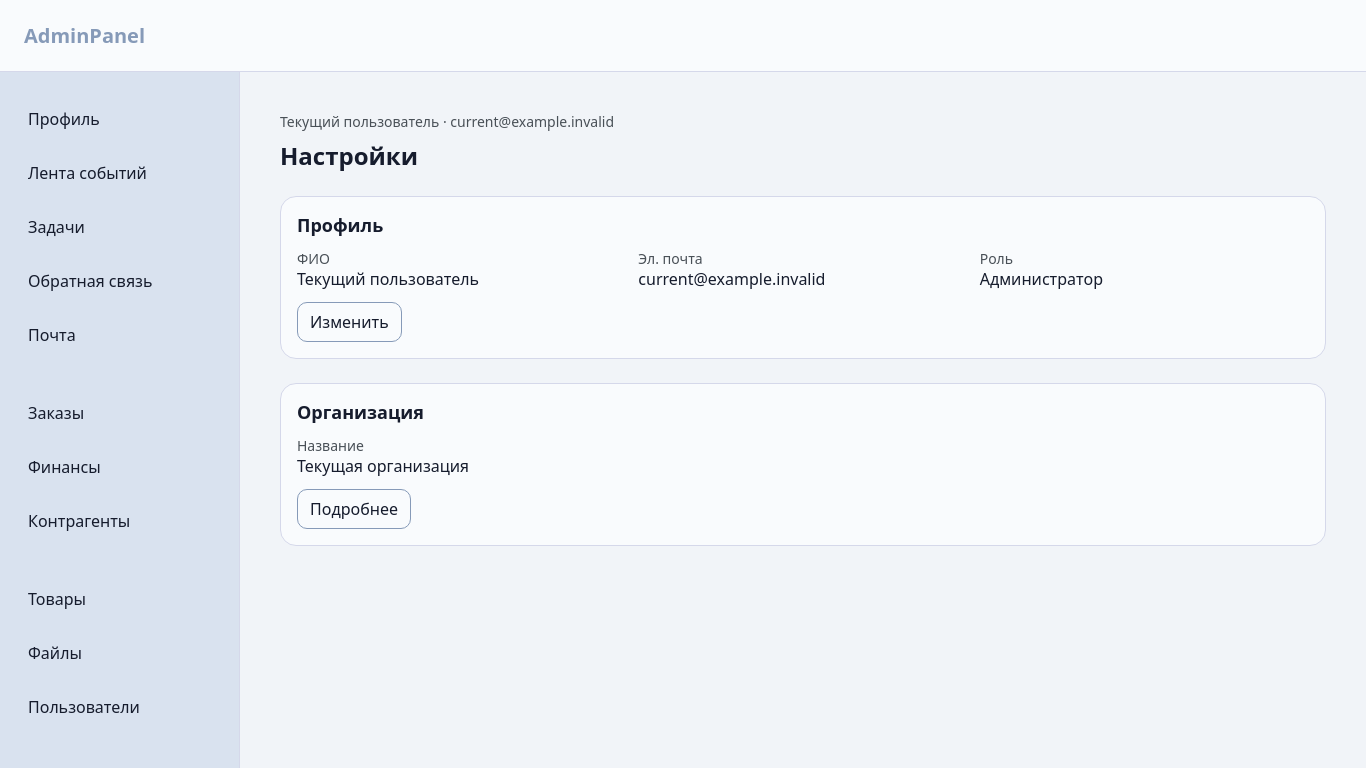
Test: Settings › reads the session user from the auth boundary and opens shared Overlays with dirty-state flow
This screenshot has width=1366, height=768.
expect the text with test id "settings-name" reads "Текущий пользователь": met, box [297,268,479,290]
Click the button with test id "edit-profile": coordinates (349, 322) [297,302,402,342]
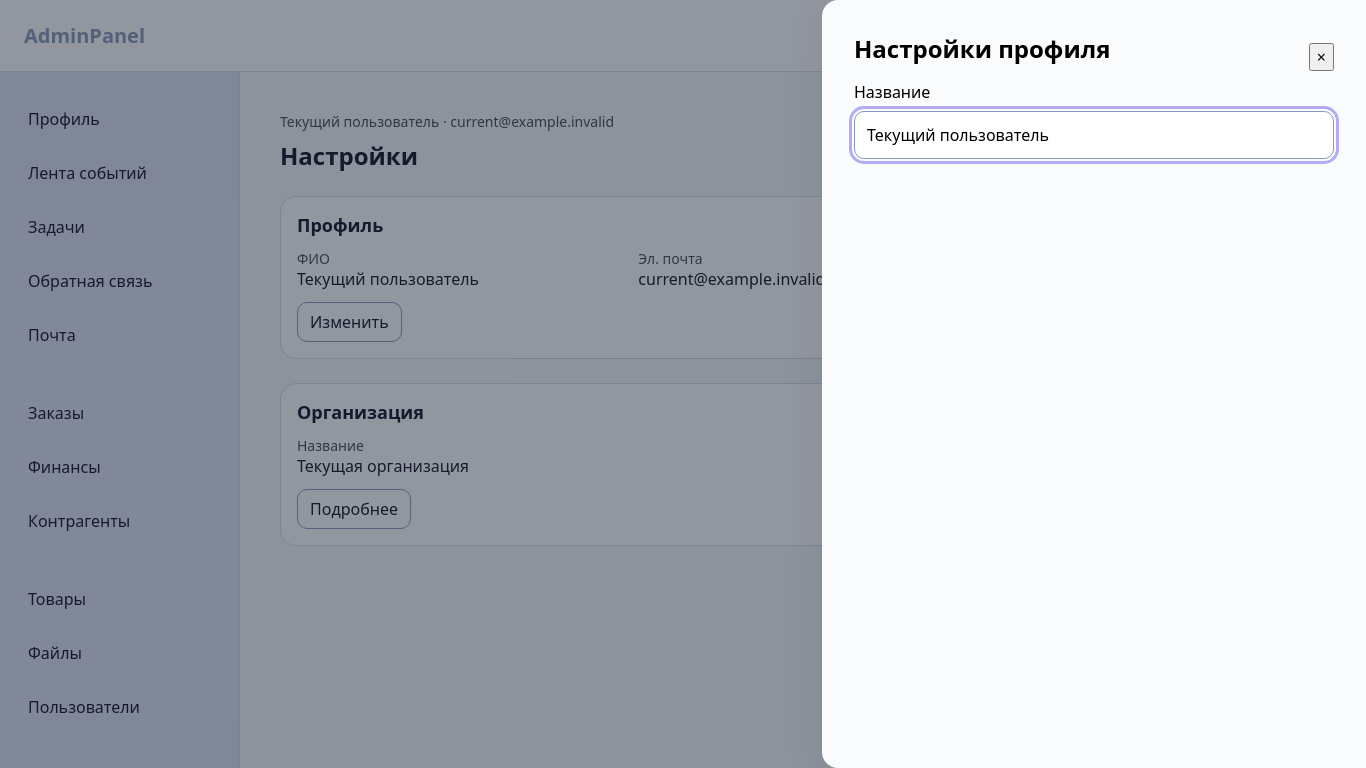
expect the heading "Настройки профиля" is shown: met, box [854,32,1110,65]
expect the field labelled "Название" is shown: met
Replace the text in the field labelled "Название" with "Изменённое имя": coordinates (1094, 135) [854,111,1334,159]
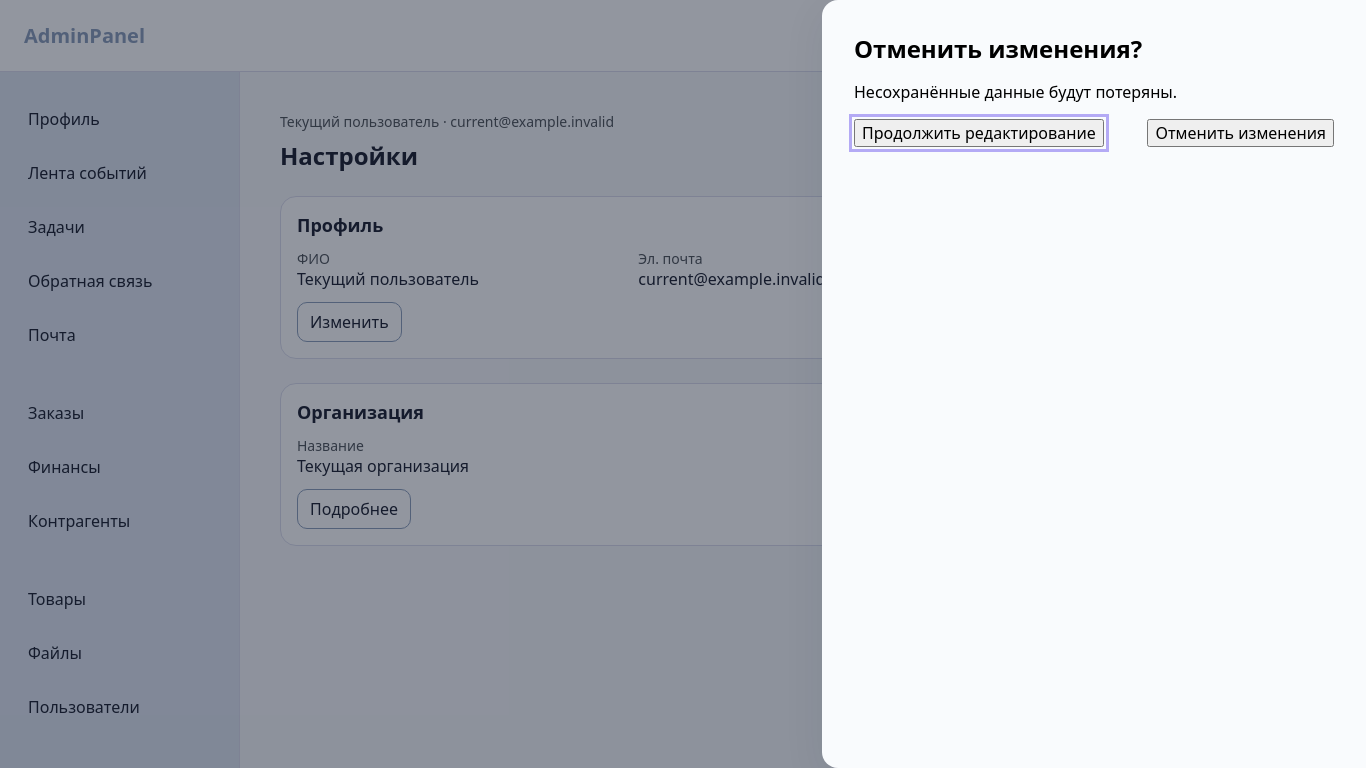
expect the heading "Отменить изменения?" is shown: met, box [854,32,1142,65]
Click the button "Отменить изменения": coordinates (1241, 133) [1147,119,1334,147]
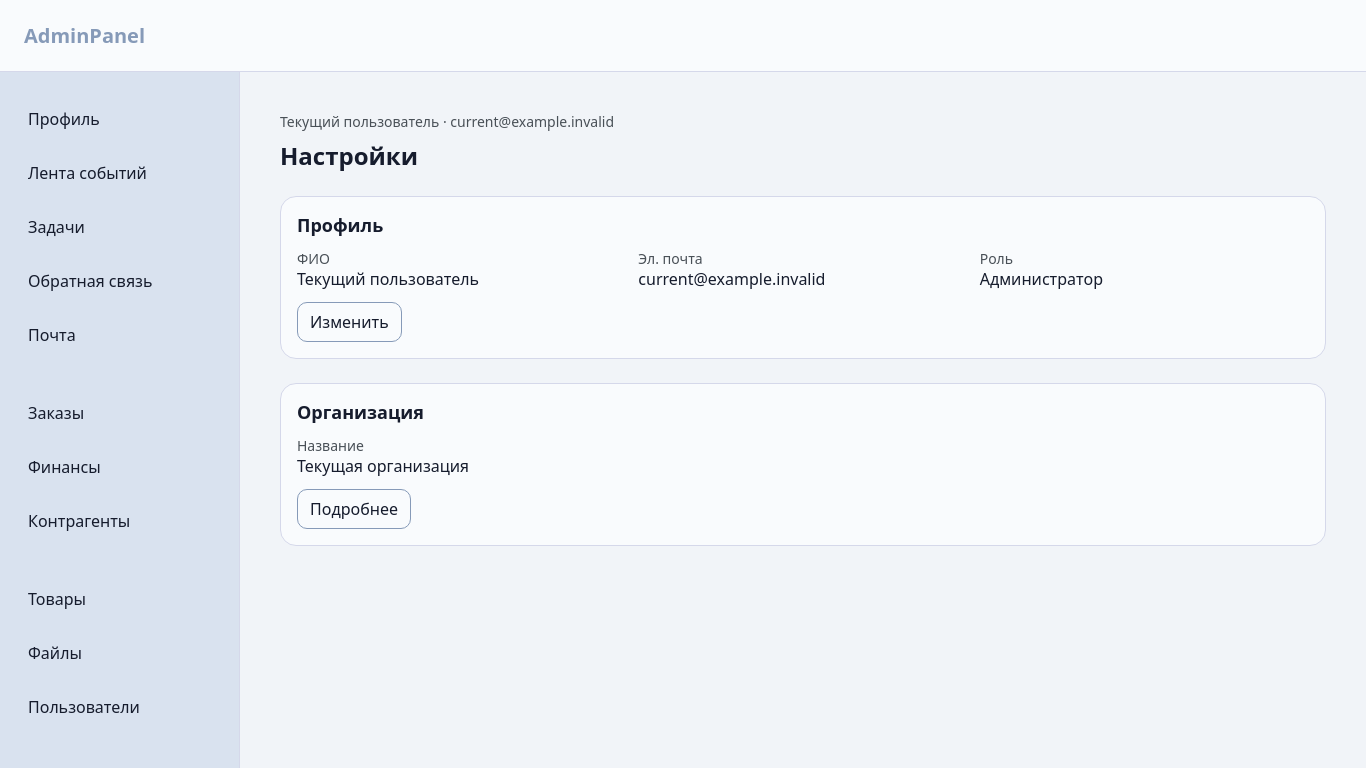
Click the button with test id "organization-info": coordinates (354, 509) [297,489,411,529]
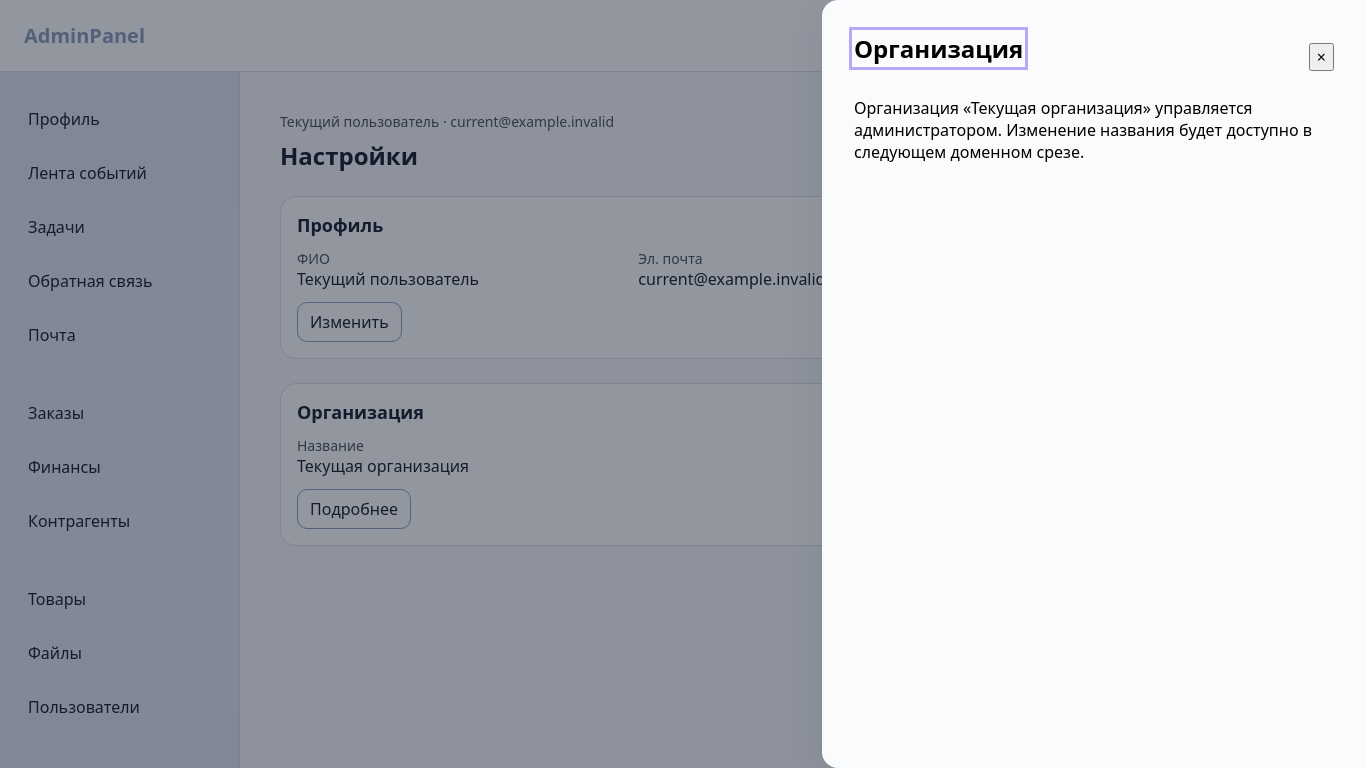
expect the heading "Организация" is shown: met, box [854,32,1023,65]
expect the dialog shows "Текущая организация": met, box [854,97,1312,163]
